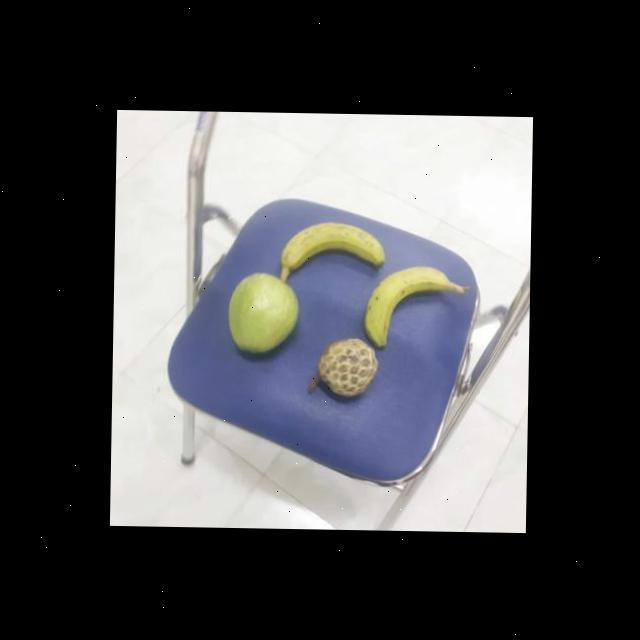Sakya fruit: (306, 336, 378, 395)
banana: (359, 264, 451, 344), (272, 222, 382, 278)
guava: (222, 271, 296, 354)
